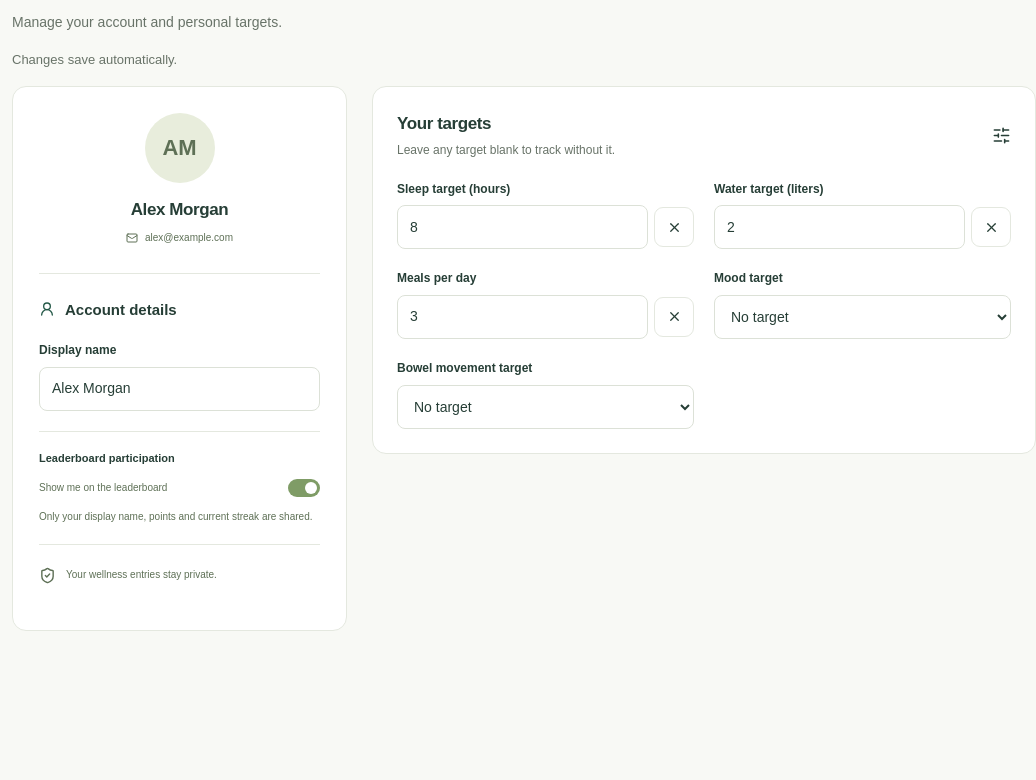
Test: queues a newer edit while a save is in flight and does not overwrite it with the older response
The width and height of the screenshot is (1036, 780).
Click the switch at (103, 487), box [39,479,320,497]
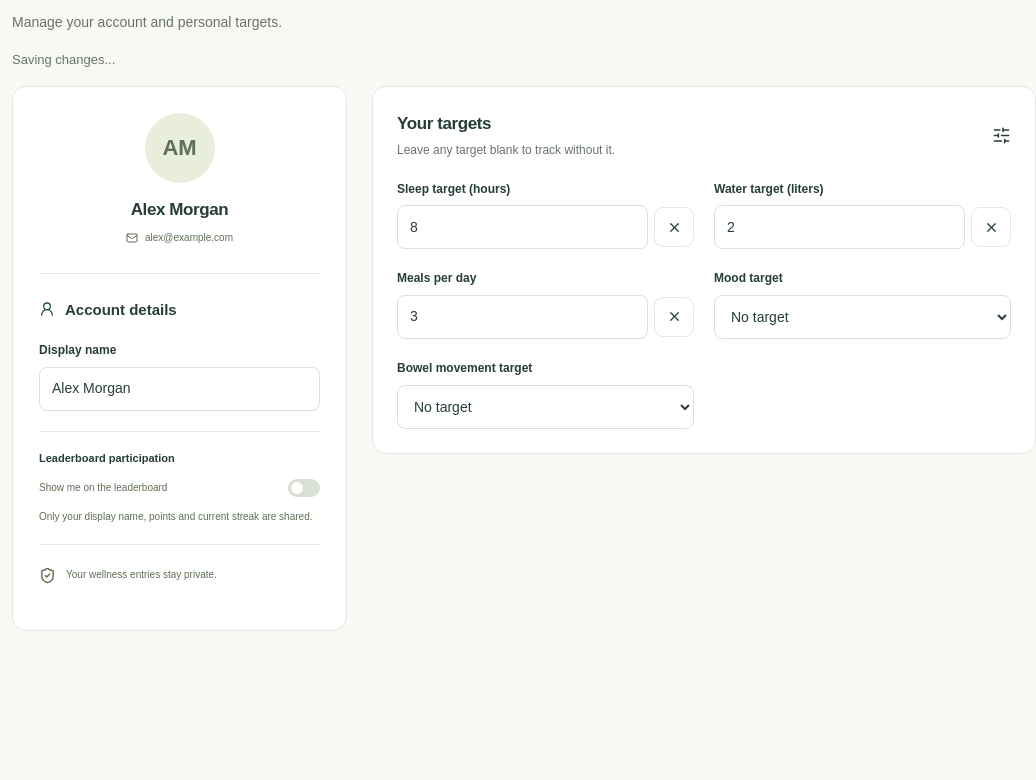
Replace the text in the field labelled "Display name" with "Updated name" at (180, 388), box [39,366,320,410]
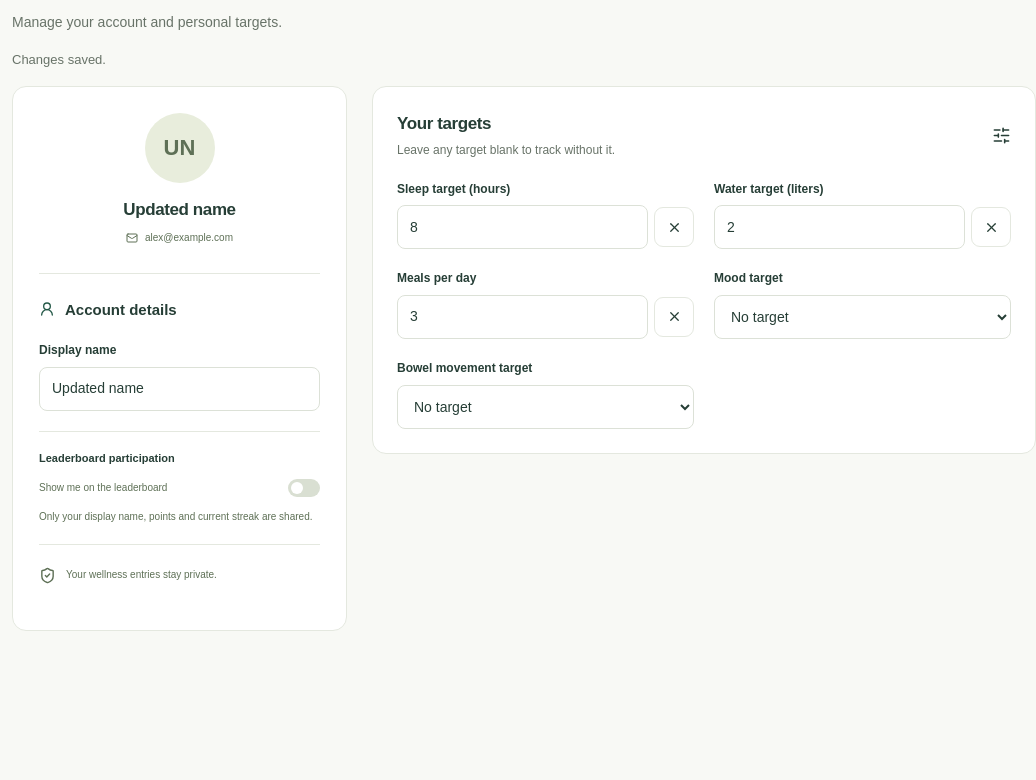
Now the text "Changes saved." is shown, box [12,52,106,67]
